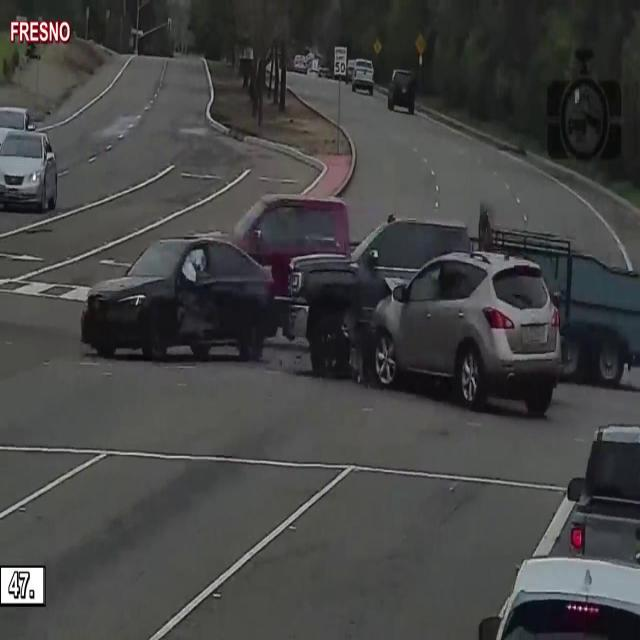accident: (285, 198, 569, 422), (79, 204, 277, 396)
